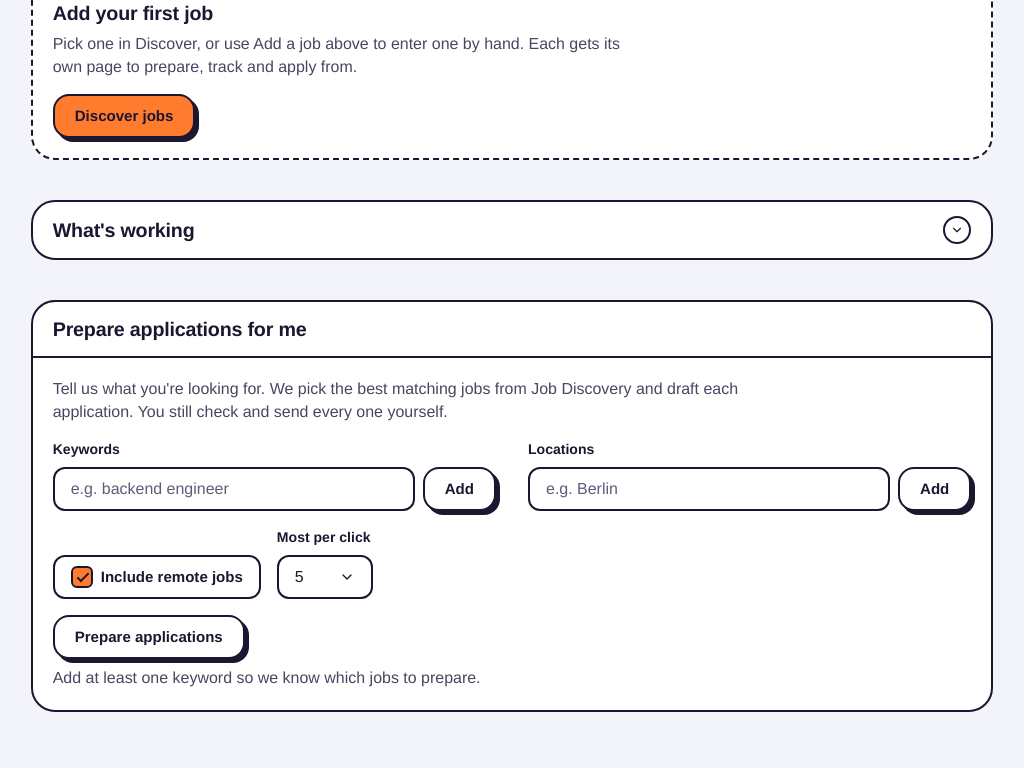
Test: Prepare applications for me › says once that a keyword is missing: the refusal replaces the standing hint
(page scrolled)
expect the text "Add at least one keyword so we know which jobs to prepare." is shown: met, box [53, 668, 480, 688]
Click the button "Prepare applications" at (149, 637), box [53, 615, 245, 659]
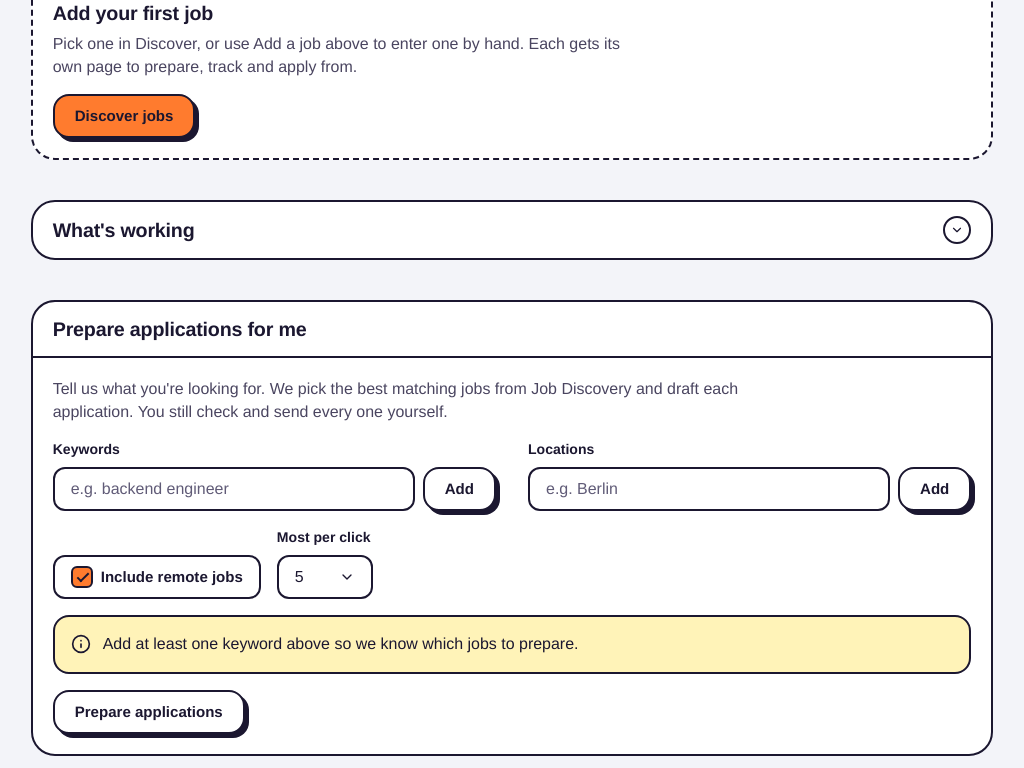
expect the text "Add at least one keyword" is shown once: met, box [103, 634, 578, 654]
